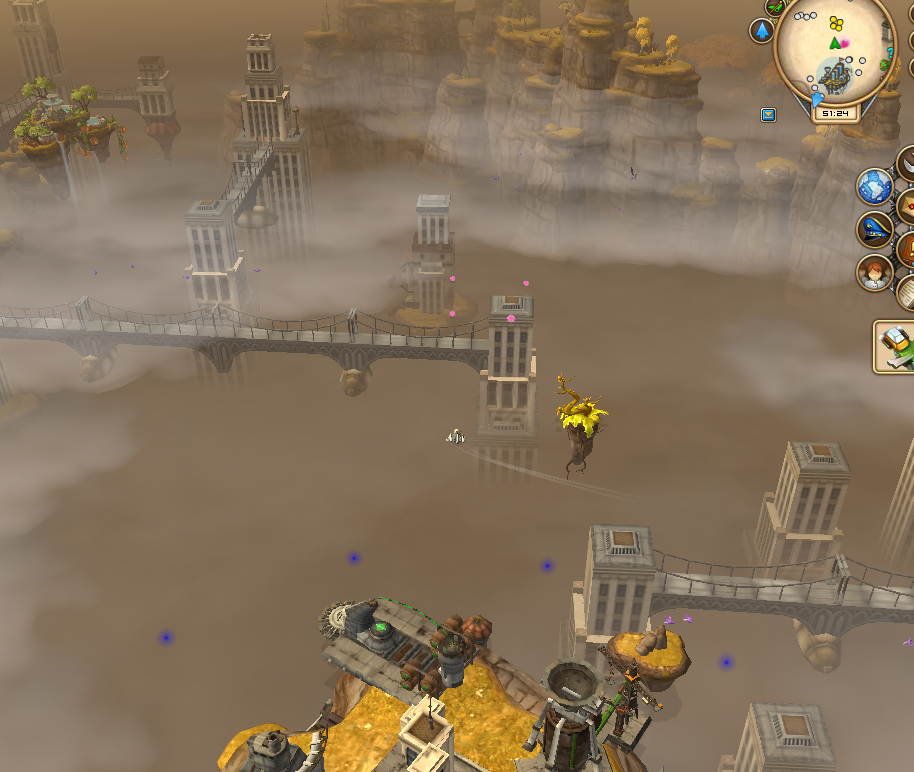dandelion-empty: (550, 369, 610, 473)
fluff: (519, 276, 532, 290), (445, 308, 457, 319), (504, 314, 516, 324), (447, 275, 457, 284)
